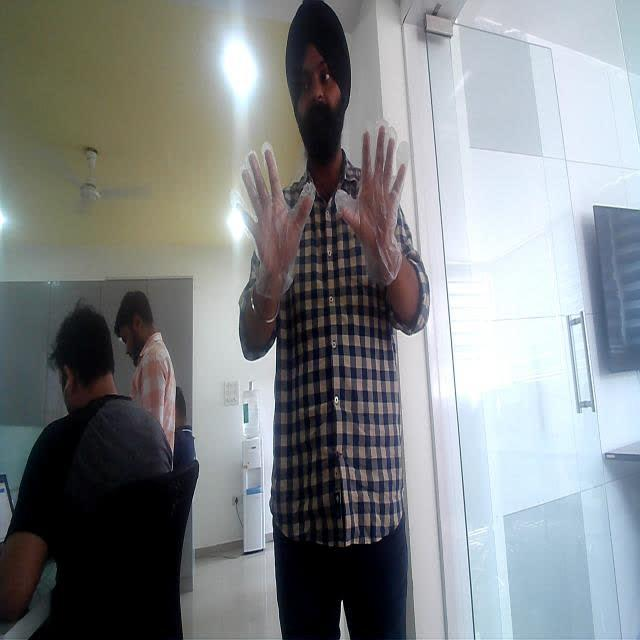with_gloves: (328, 103, 438, 298), (222, 137, 312, 339)
